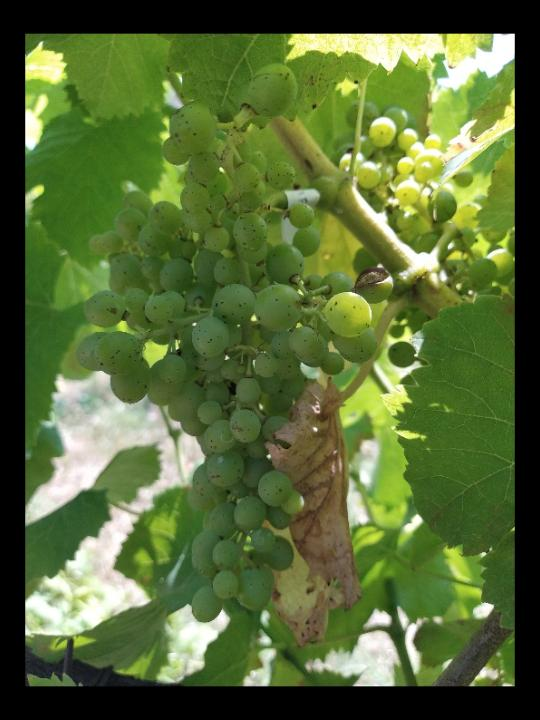grape: (77, 61, 396, 626)
